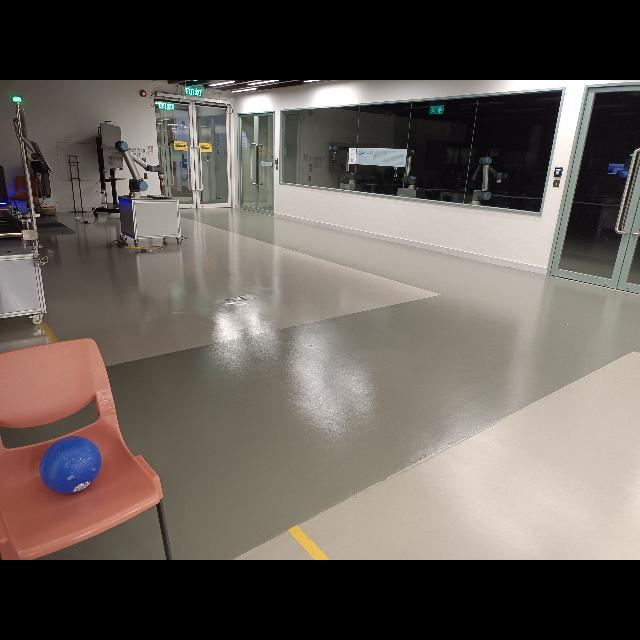B: (40, 437, 100, 493)
